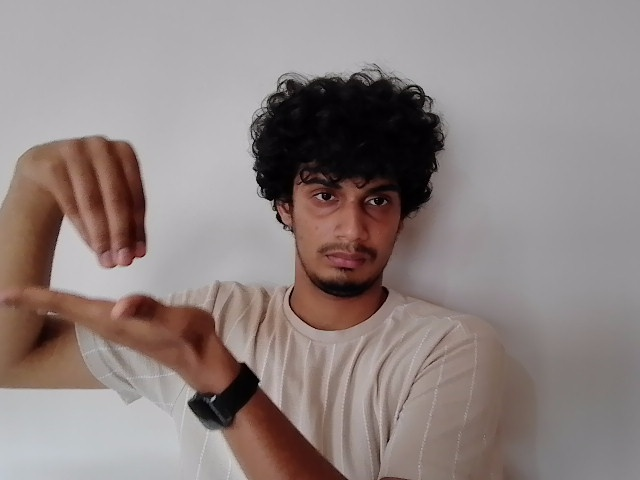learn: (9, 139, 231, 359)
